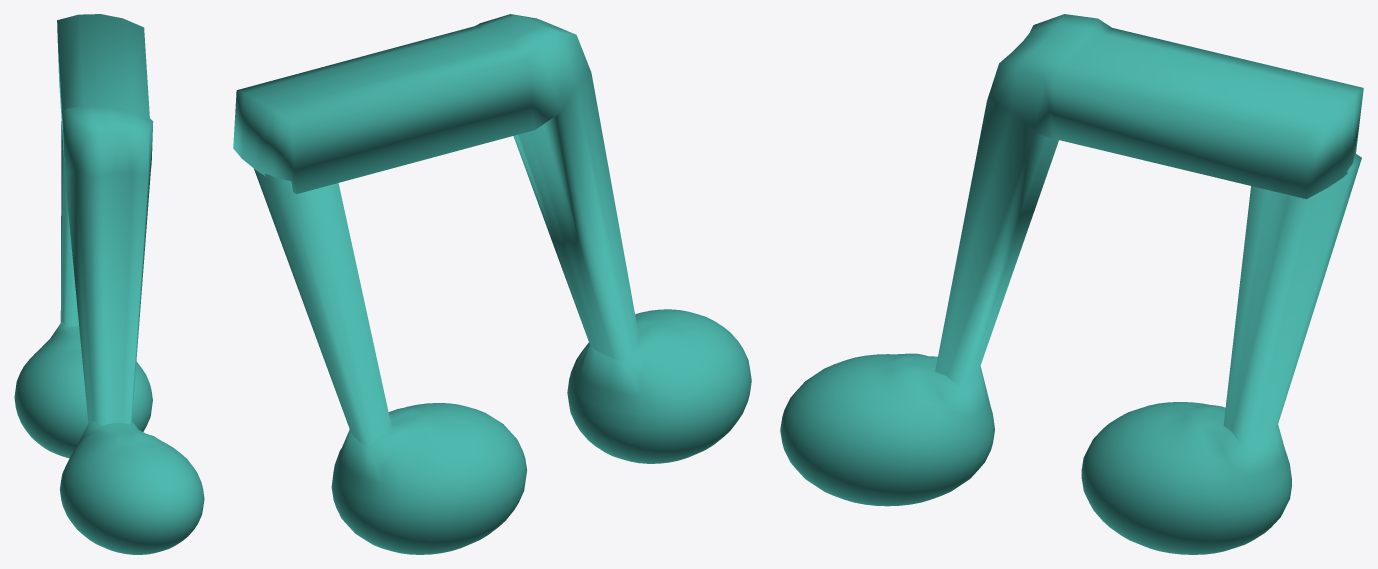
Rendered from doubleKeyDark.gltf.
The picture shows the model from 3 angles, left to right: view 1: azimuth 30°, elevation 25°; view 2: azimuth 150°, elevation 25°; view 3: azimuth 270°, elevation 25°; orthographic projection. The views are drawn at different scales.
Parts seen in each view (by area): view 1: doubleKey; view 2: doubleKey; view 3: doubleKey.
Boxes of the visible parts, x1,y1,x2,y2 form: doubleKey: (14,14,204,554); doubleKey: (233,14,751,554); doubleKey: (780,14,1363,554).
Bounding box in the file's own units: 3.28 × 5.1 × 5.43.
